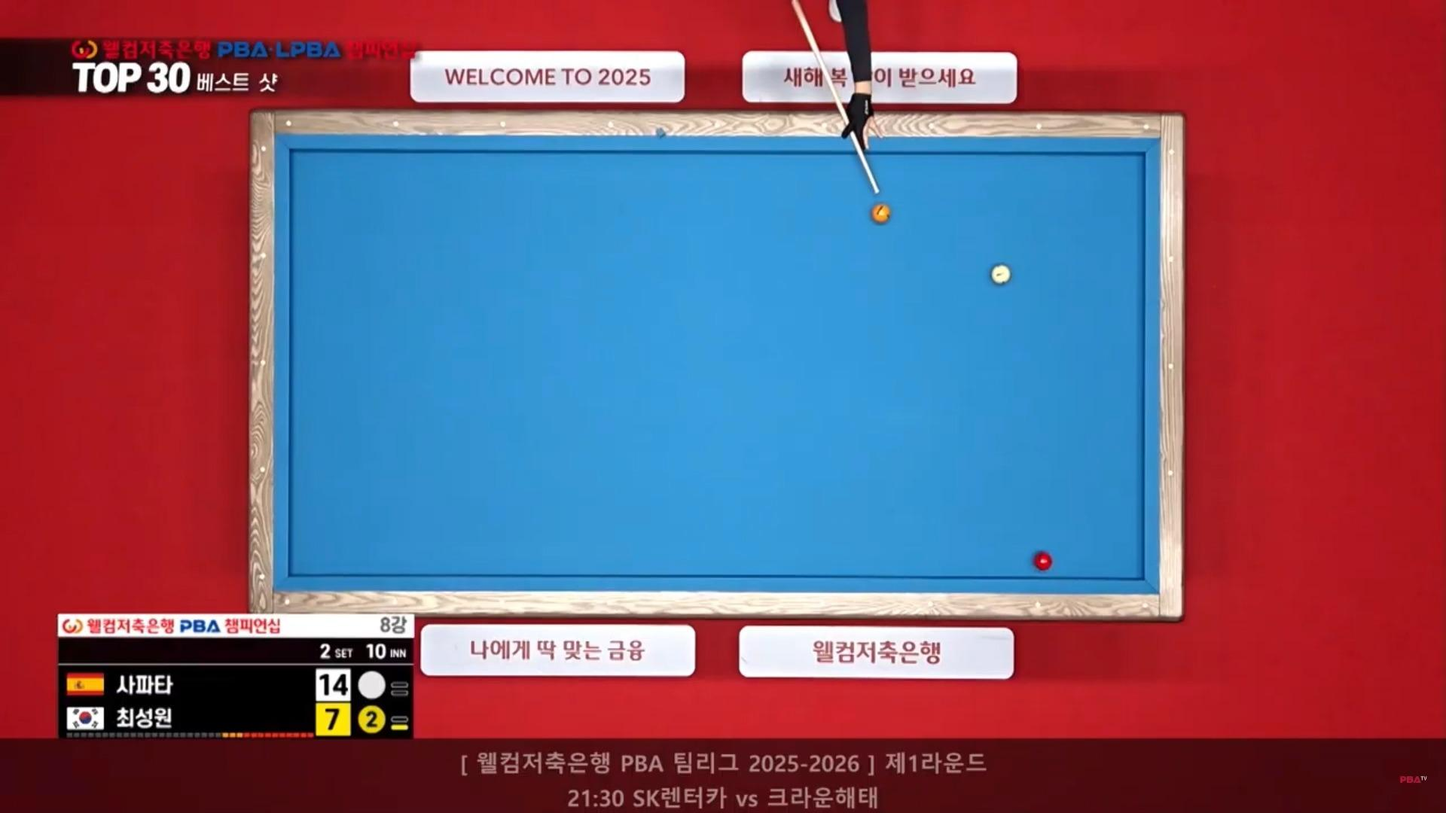-billiard-ball: (990, 263, 1010, 285), (871, 202, 890, 224)
Red: (1033, 555, 1055, 572)
White: (993, 265, 1016, 285)
Yellow: (864, 203, 889, 223), (871, 206, 894, 226)
